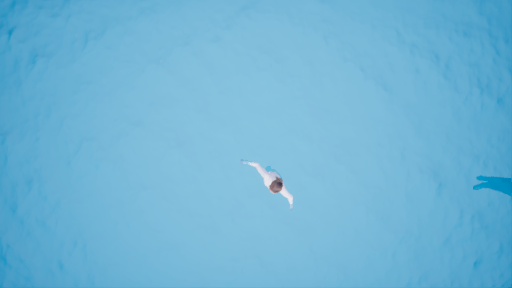person: (241, 160, 301, 208)
